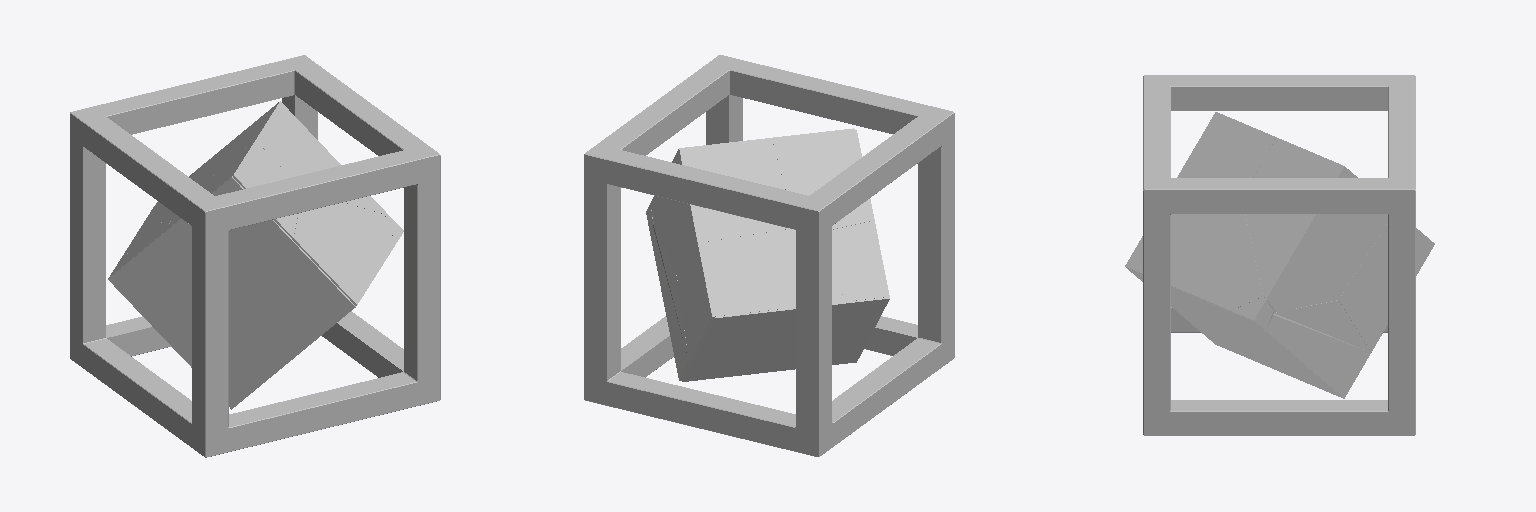
Rendered from TesseractComplet.obj.
3 renders of one model, left to right at view 1: azimuth 30°, elevation 25°; view 2: azimuth 150°, elevation 25°; view 3: azimuth 270°, elevation 25°, orthographic.
Visible parts, largest first — view 1: Cube.002_Cube.007, UnfracturedTeseract_Cube.008, Cube.002_cell.001_Cube.002_cell.000, Cube.002_cell.007_Cube.002_cell.006, Cube.002_cell.003_Cube.002_cell.002, Cube.002_cell.006_Cube.002_cell.005, Cube.002_cell.002_Cube.002_cell.001; view 2: Cube.002_Cube.007, Cube.002_cell.006_Cube.002_cell.005, UnfracturedTeseract_Cube.008, Cube.002_cell.007_Cube.002_cell.006, Cube.002_cell.003_Cube.002_cell.002, Cube.002_cell.002_Cube.002_cell.001, Cube.002_cell.004_Cube.002_cell.003; view 3: Cube.002_Cube.007, Cube.002_cell.007_Cube.002_cell.006, Cube.002_cell.001_Cube.002_cell.000, Cube.002_cell.004_Cube.002_cell.003, UnfracturedTeseract_Cube.008, Cube.002_cell.003_Cube.002_cell.002, Cube.002_cell.006_Cube.002_cell.005, Cube.002_cell.005_Cube.002_cell.004.
Boxes of the visible parts, x1,y1,x2,y2 form: Cube.002_Cube.007: [70, 55, 440, 457]; UnfracturedTeseract_Cube.008: [108, 176, 355, 409]; Cube.002_cell.001_Cube.002_cell.000: [292, 202, 395, 305]; Cube.002_cell.007_Cube.002_cell.006: [196, 101, 385, 213]; Cube.002_cell.003_Cube.002_cell.002: [166, 140, 297, 238]; Cube.002_cell.006_Cube.002_cell.005: [121, 159, 209, 258]; Cube.002_cell.002_Cube.002_cell.001: [110, 212, 174, 276]; Cube.002_Cube.007: [584, 55, 954, 456]; Cube.002_cell.006_Cube.002_cell.005: [677, 229, 846, 361]; UnfracturedTeseract_Cube.008: [681, 130, 889, 381]; Cube.002_cell.007_Cube.002_cell.006: [651, 138, 789, 274]; Cube.002_cell.003_Cube.002_cell.002: [772, 128, 871, 229]; Cube.002_cell.002_Cube.002_cell.001: [832, 221, 886, 301]; Cube.002_cell.004_Cube.002_cell.003: [650, 225, 690, 380]; Cube.002_Cube.007: [1143, 75, 1415, 435]; Cube.002_cell.007_Cube.002_cell.006: [1245, 138, 1387, 312]; Cube.002_cell.001_Cube.002_cell.000: [1126, 214, 1262, 311]; Cube.002_cell.004_Cube.002_cell.003: [1266, 300, 1370, 398]; UnfracturedTeseract_Cube.008: [1125, 112, 1343, 398]; Cube.002_cell.003_Cube.002_cell.002: [1178, 112, 1276, 177]; Cube.002_cell.006_Cube.002_cell.005: [1339, 223, 1434, 352]; Cube.002_cell.005_Cube.002_cell.004: [1232, 297, 1273, 330].
Size of the model in its own units: 2.75 by 2.4 by 2.74.